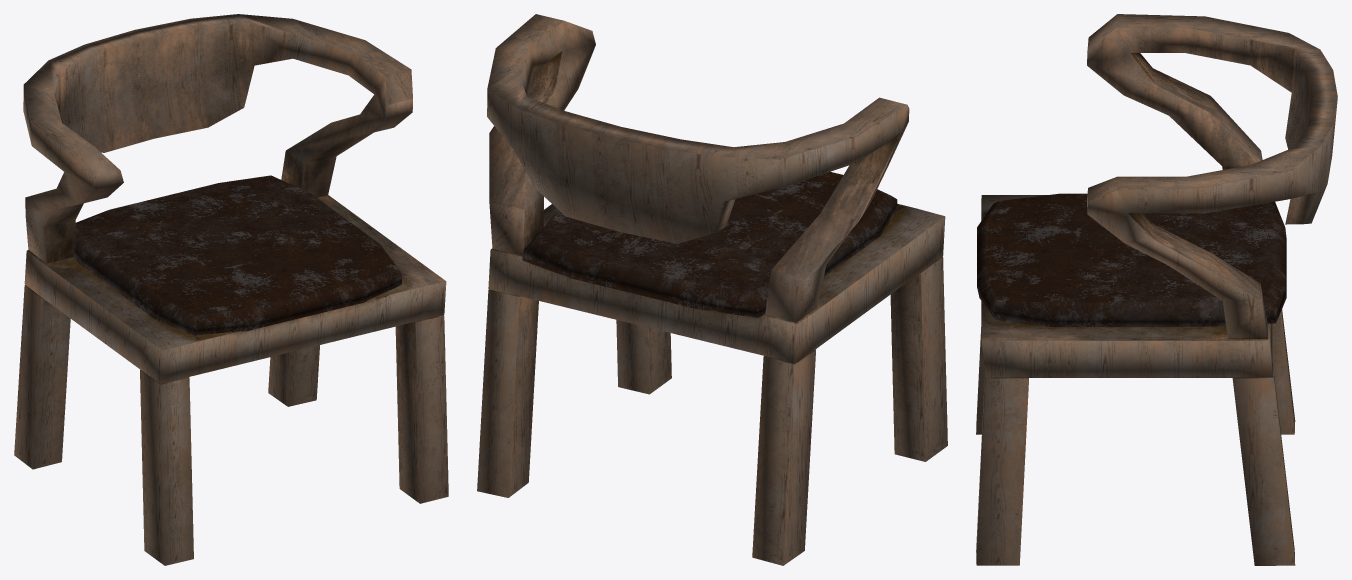
File: M_ShopChair.fbx
3 views of the same model, side by side, from view 1: azimuth 30°, elevation 25°; view 2: azimuth 150°, elevation 25°; view 3: azimuth 270°, elevation 25° (orthographic). The views are drawn at different scales.
Visible parts, largest first — view 1: shopchair_GEO; view 2: shopchair_GEO; view 3: shopchair_GEO.
Boxes of the visible parts, bbox=[...] form: shopchair_GEO: bbox=[14, 14, 448, 565]; shopchair_GEO: bbox=[477, 14, 947, 565]; shopchair_GEO: bbox=[976, 14, 1337, 565].
Size of the model in its own units: 0.7027 by 0.7381 by 0.6095.
Materials: 1 (1 with a texture image).
